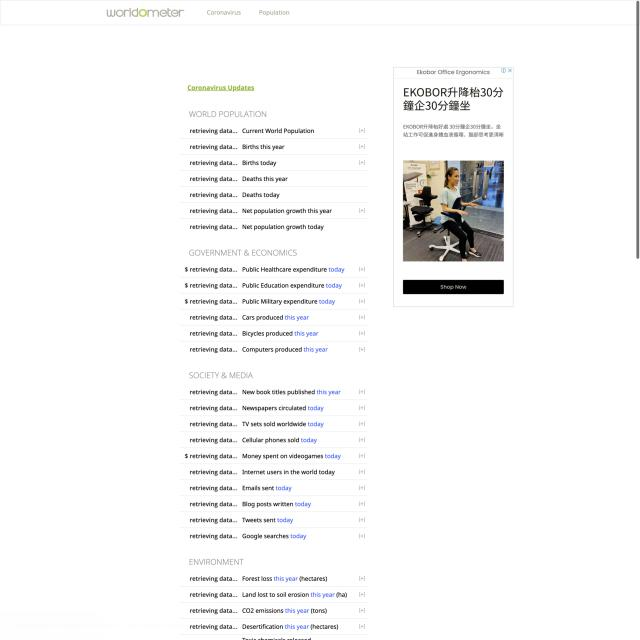logo: (103, 7, 187, 19)
navigation: (204, 6, 294, 20)
